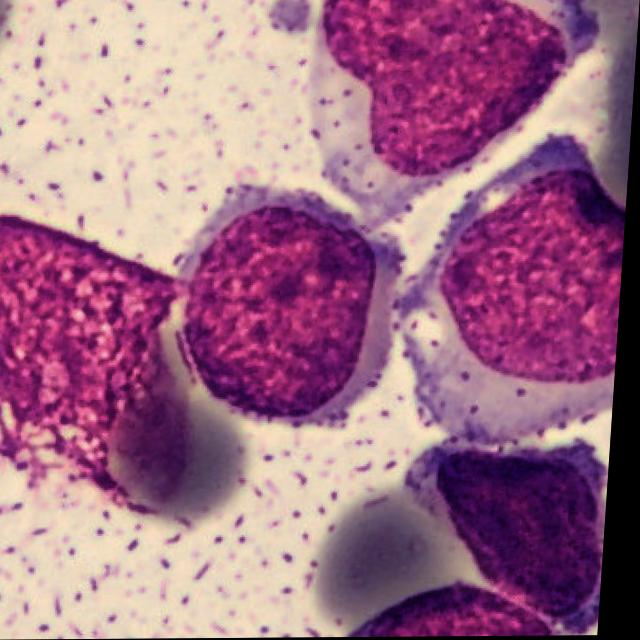Mieloblasto: (411, 138, 629, 442), (311, 0, 599, 200), (180, 184, 402, 426), (411, 444, 615, 633)
Restos celulares: (0, 217, 202, 510)
